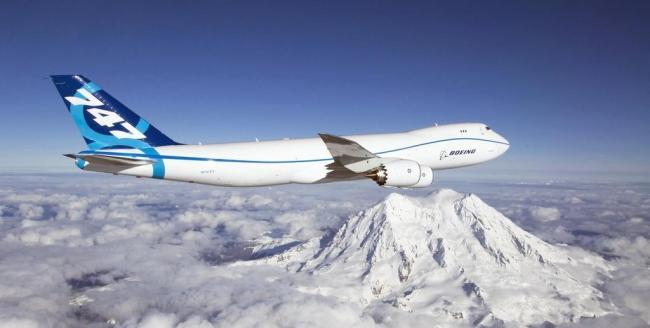airplane: (35, 67, 514, 190)
